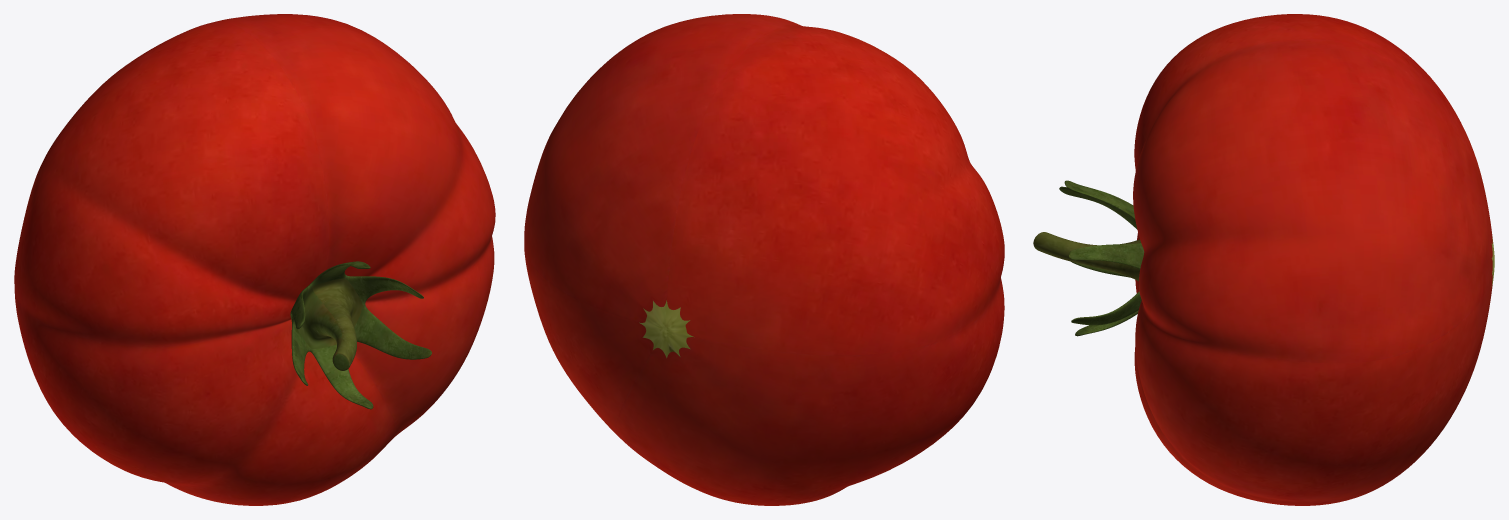
Rendered from tomato.glb.
3 renders of one model, left to right at view 1: azimuth 30°, elevation 25°; view 2: azimuth 150°, elevation 25°; view 3: azimuth 270°, elevation 25°, orthographic.
Visible parts, largest first — view 1: tomato_Mesh; view 2: tomato_Mesh; view 3: tomato_Mesh.
Part boxes in pixels (box(x1,y1,x2,y2)): tomato_Mesh: box(14, 14, 495, 505); tomato_Mesh: box(524, 14, 1004, 505); tomato_Mesh: box(1033, 14, 1494, 505).
Size of the model in its own units: 12.44 by 12.45 by 11.5.
1 material, 1 textured.
